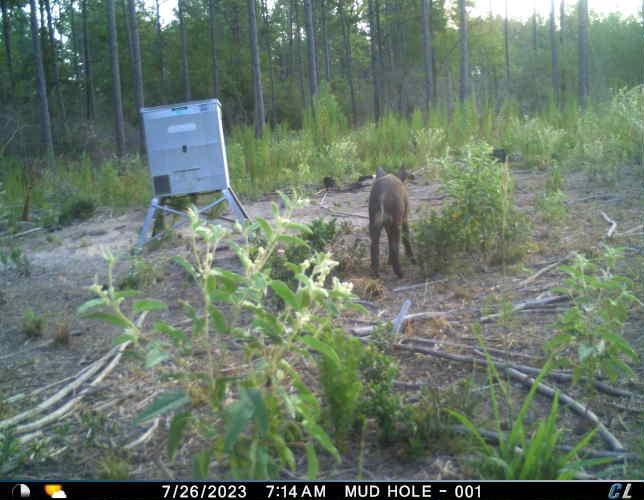Hog: (367, 160, 419, 280)
